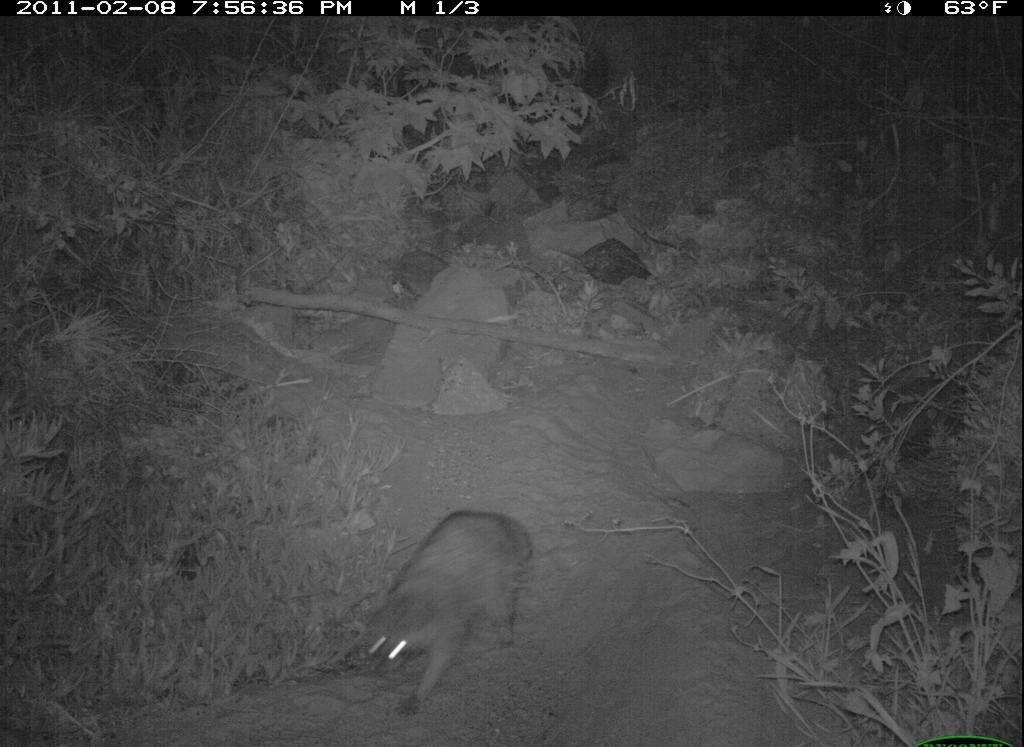raccoon: (342, 502, 538, 722)
